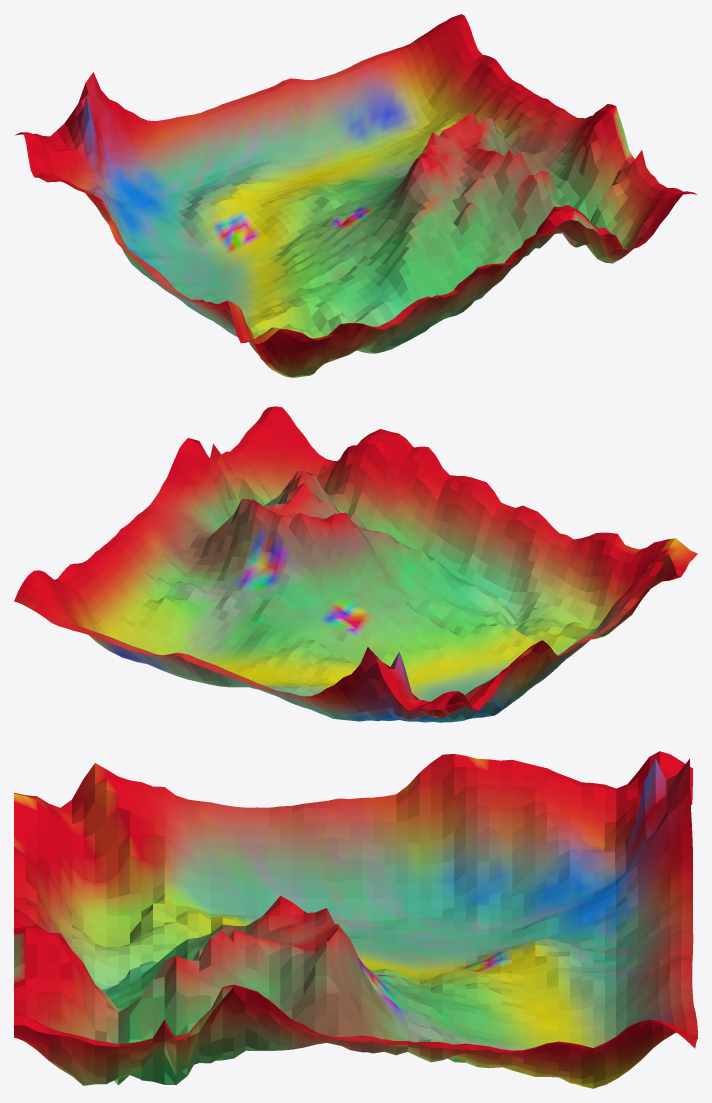
Rendered from world.obj.
The picture shows the model from 3 angles, top to bottom: view 1: azimuth 30°, elevation 25°; view 2: azimuth 150°, elevation 25°; view 3: azimuth 270°, elevation 25°; orthographic projection. The views are drawn at different scales.
Size of the model in its own units: 30.25 by 9.47 by 29.82.
